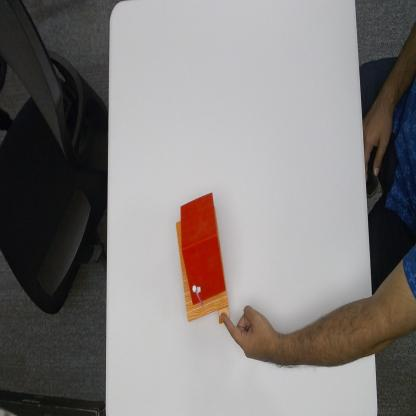Arm: (281, 296, 374, 370)
Hand: (220, 306, 279, 371)
House: (176, 192, 230, 315)
